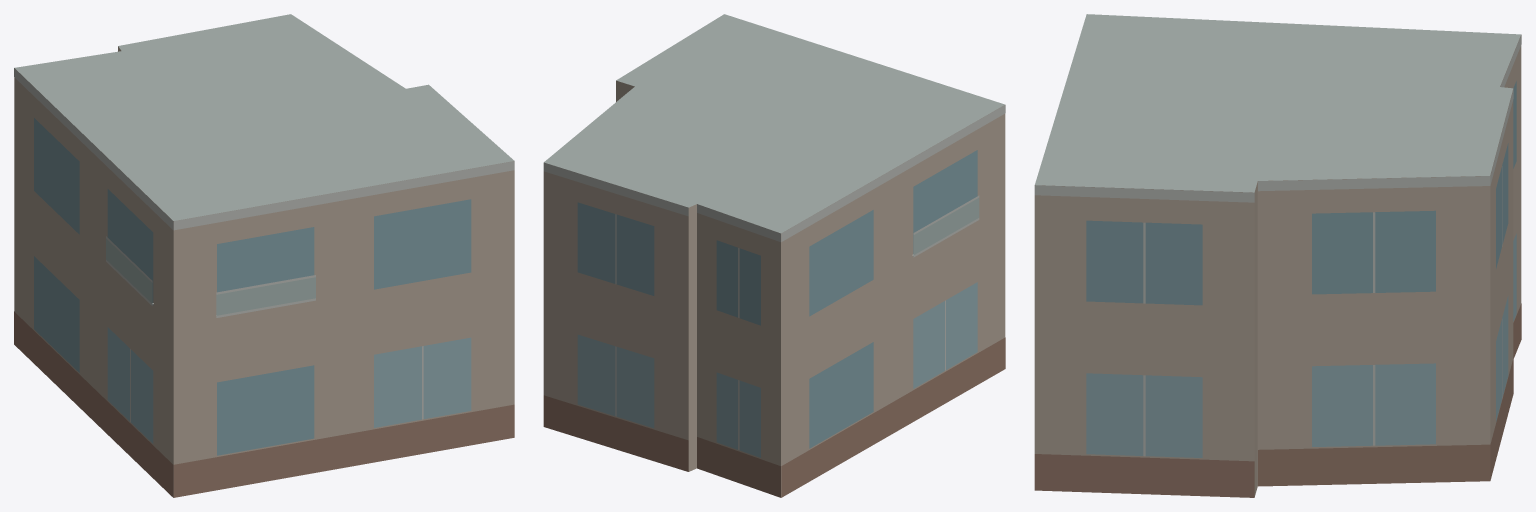
Rendered from survey-upis-32508295.glb.
The picture shows the model from 3 angles, left to right: view 1: azimuth 30°, elevation 25°; view 2: azimuth 150°, elevation 25°; view 3: azimuth 270°, elevation 25°; orthographic projection. The views are drawn at different scales.
Parts seen in each view (by area): view 1: survey-upis-32508295.tmp; view 2: survey-upis-32508295.tmp; view 3: survey-upis-32508295.tmp.
Part boxes in pixels (x1,y1,x2,y2): survey-upis-32508295.tmp: [14, 14, 514, 497]; survey-upis-32508295.tmp: [543, 14, 1005, 497]; survey-upis-32508295.tmp: [1034, 14, 1521, 497].
Size of the model in its own units: 9.16 by 7.3 by 10.56.
